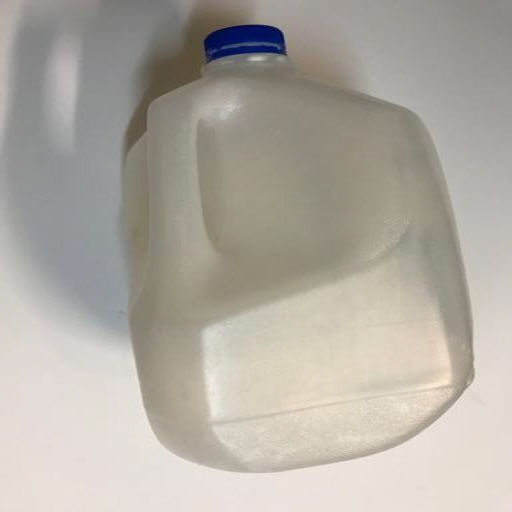Plastic_1: (128, 24, 467, 461)
